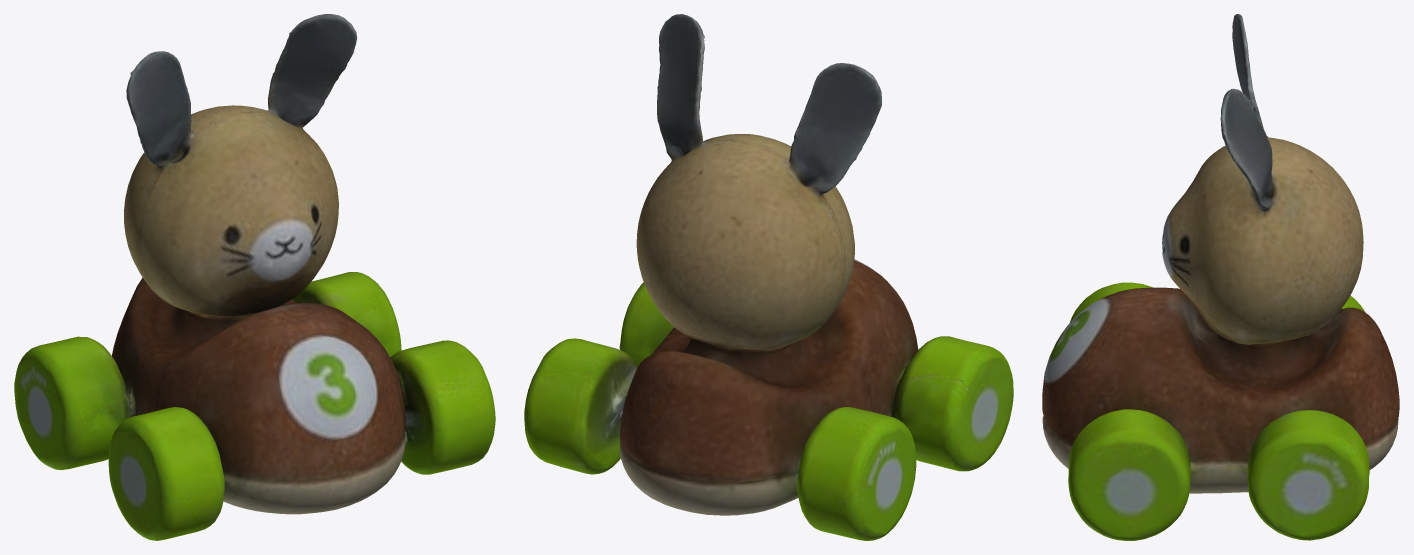
The model's file is google-bunny-racer.glb.
The picture shows the model from 3 angles, left to right: view 1: azimuth 30°, elevation 25°; view 2: azimuth 150°, elevation 25°; view 3: azimuth 270°, elevation 25°; orthographic projection. The views are drawn at different scales.
Visible parts, largest first — view 1: Node; view 2: Node; view 3: Node.
Boxes of the visible parts, x1,y1,x2,y2 form: Node: (14,14,495,540); Node: (524,14,1013,540); Node: (1042,14,1399,540).
Size of the model in its own units: 0.0916 by 0.1115 by 0.088.
Materials: 1 (1 with a texture image).
